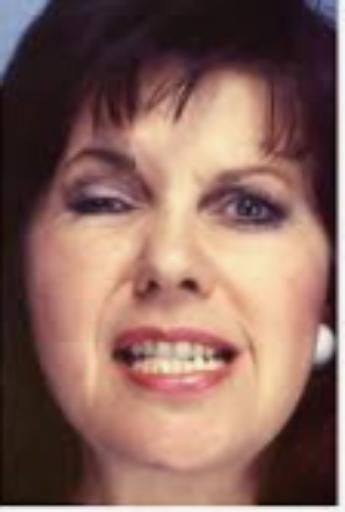left_eye: (200, 189, 289, 234)
left_lip_corner: (227, 340, 258, 367)
right_eye: (64, 187, 142, 225)
right_lip_corner: (103, 338, 129, 372)
